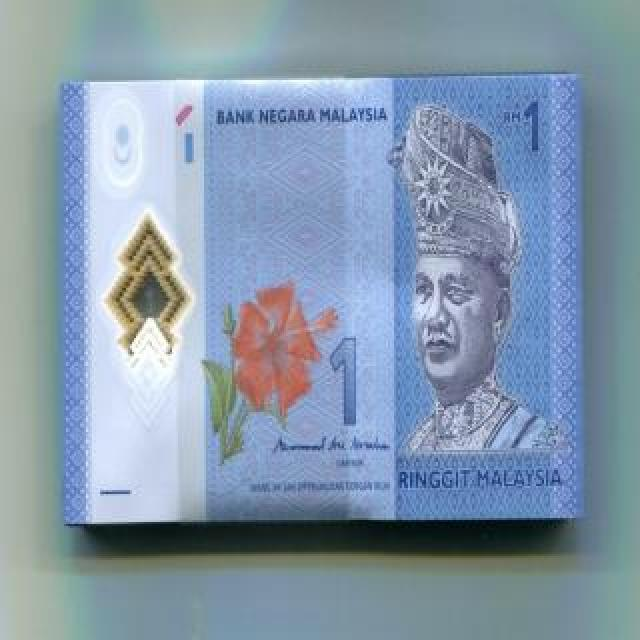1 Ringgit: (54, 64, 592, 533)
